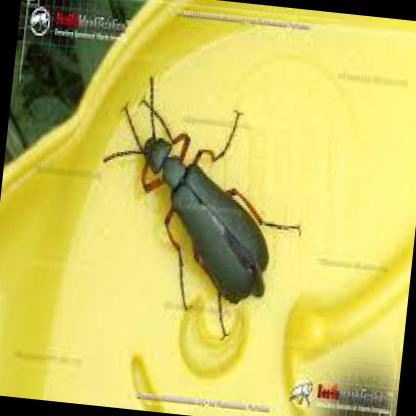blister beetle: (105, 111, 270, 309)
